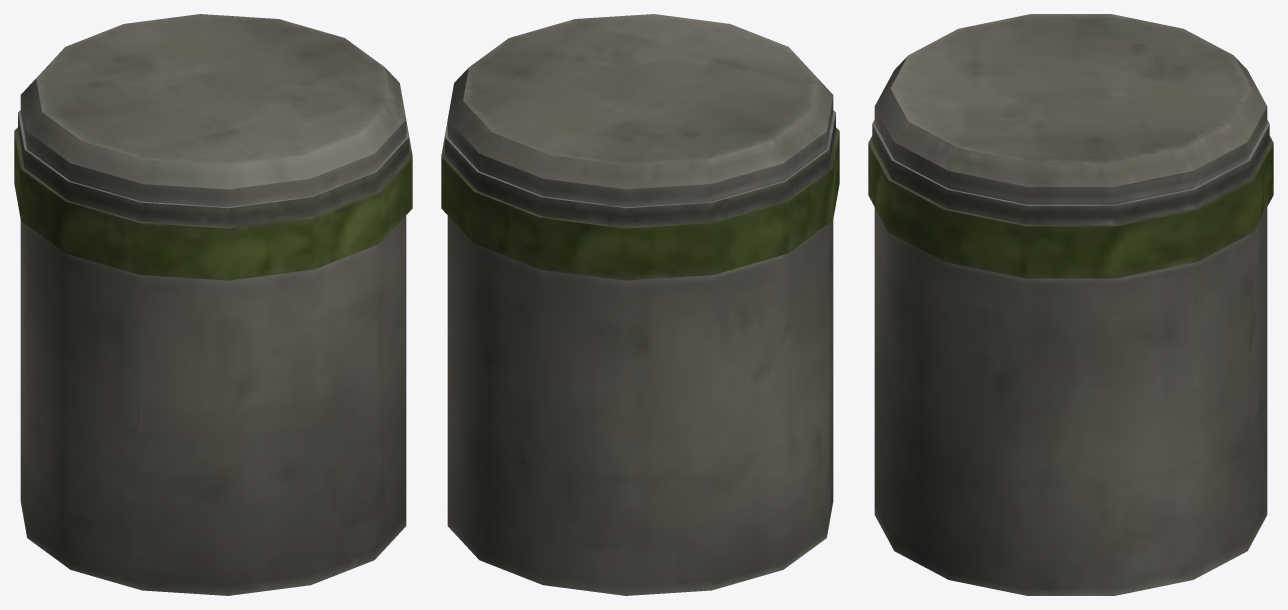
File: caisson.glb
The picture shows the model from 3 angles, left to right: view 1: azimuth 30°, elevation 25°; view 2: azimuth 150°, elevation 25°; view 3: azimuth 270°, elevation 25°; orthographic projection.
Parts seen in each view (by area): view 1: te_caisson; view 2: te_caisson; view 3: te_caisson.
Boxes of the visible parts, box(x1,y1,x2,y2) form: te_caisson: box(14, 14, 412, 595); te_caisson: box(441, 14, 839, 595); te_caisson: box(868, 14, 1273, 595).
Bounding box in the file's own units: 0.3022 × 0.36 × 0.31.
Materials: 1 (1 with a texture image).
